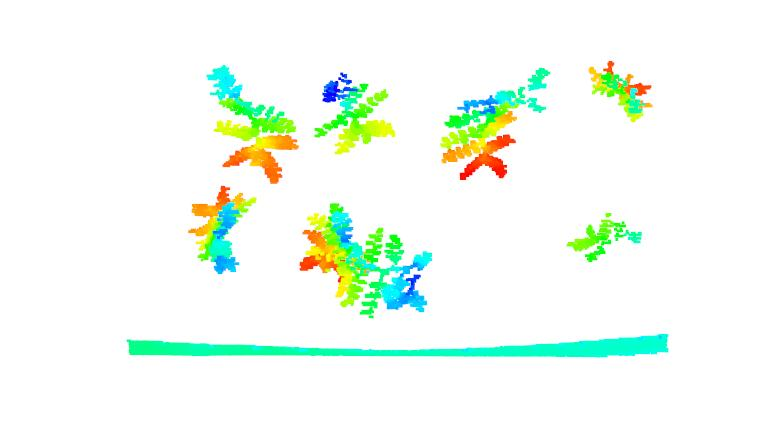chickpea: (295, 200, 434, 322), (205, 64, 300, 185), (311, 70, 397, 155), (189, 184, 258, 280), (438, 95, 511, 179), (586, 60, 658, 124), (565, 214, 646, 265), (497, 66, 556, 111)
